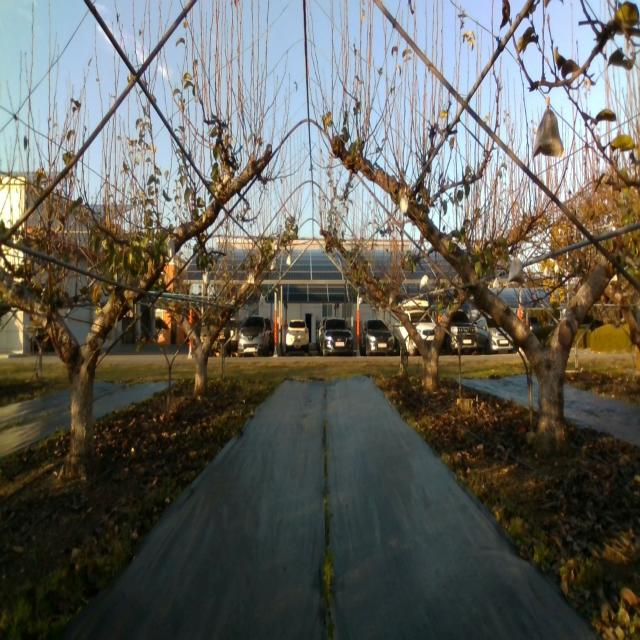pearbags: (532, 109, 564, 157), (508, 257, 526, 284)
